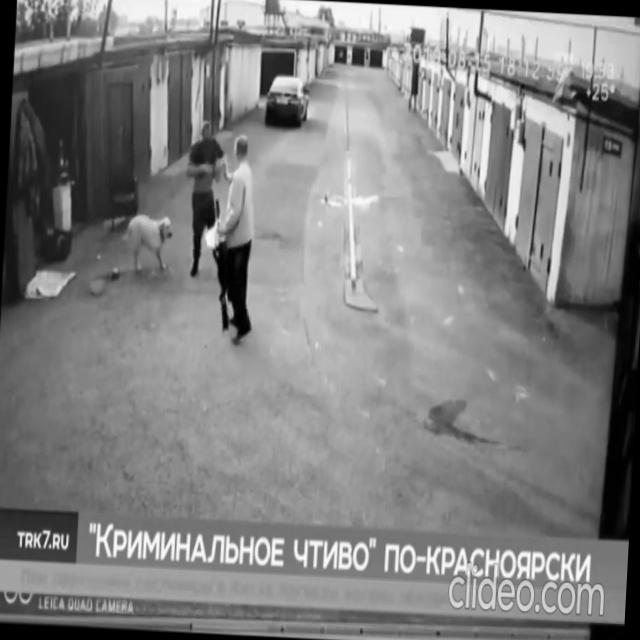gun: (206, 196, 237, 335)
person: (180, 120, 230, 278)
person with a gun: (206, 131, 264, 349)
